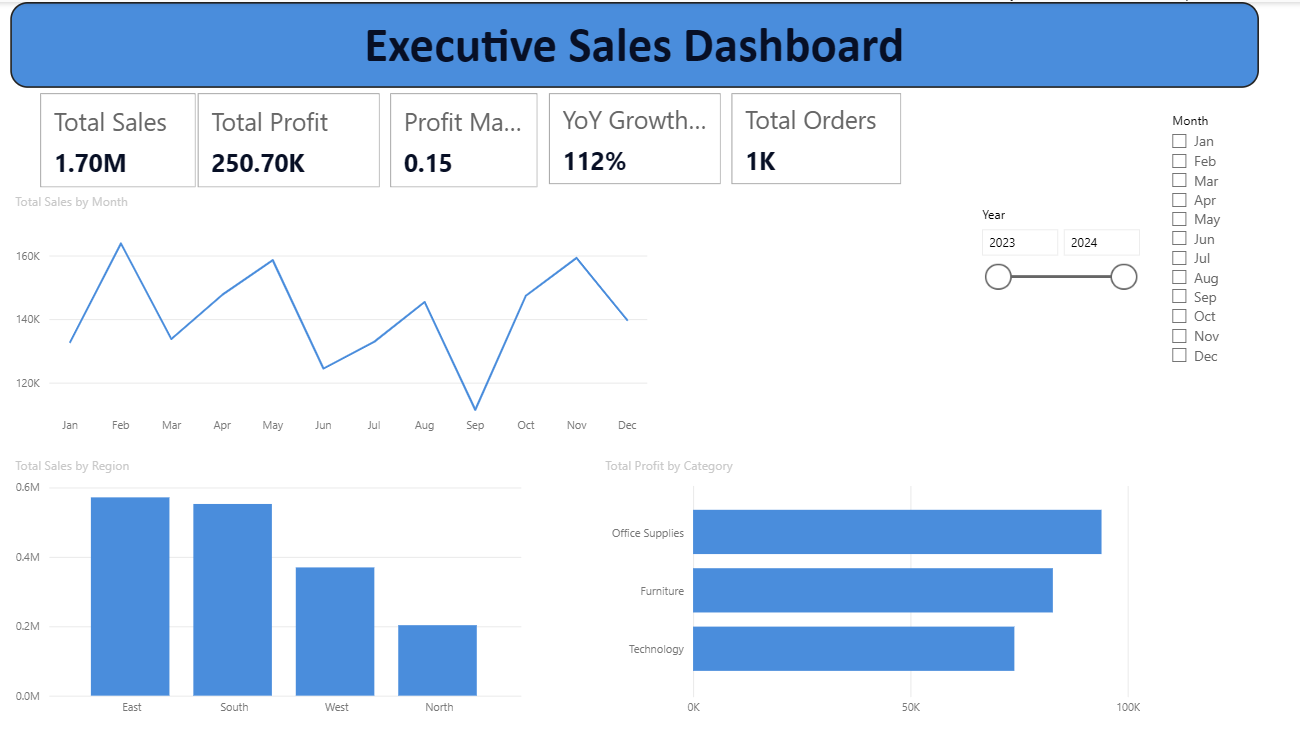

The dashboard page shown, as its layout file describes it:
{"tool":"powerbi","page":{"name":"Executive Overview","canvas":[1280,720],"ordinal":0},"visuals":[{"type":"cardVisual","fields":{"Data":["Orders.Total Sales"]},"box":[26.9,83.2,162.6,102.7],"z":0},{"type":"cardVisual","fields":{"Data":["Orders.Total Profit"]},"box":[189.5,84.4,188.3,102.7],"z":1000},{"type":"cardVisual","fields":{"Data":["Orders.Profit Margin"]},"box":[377.9,84.4,154.1,102.7],"z":2000},{"type":"cardVisual","fields":{"Data":["Orders.YoY Growth %"]},"box":[533.2,84.4,178.5,99],"z":3000},{"type":"cardVisual","fields":{"Data":["Orders.Total Orders"]},"box":[711.7,84.4,176.1,99],"z":4000},{"type":"lineChart","fields":{"Category":["Calendar.Month"],"Y":["Orders.Total Sales"]},"box":[11,187.1,628.5,244.6],"z":5000},{"type":"clusteredColumnChart","fields":{"Category":["Customers.Region"],"Y":["Orders.Total Sales"]},"box":[11,445.1,505,261.7],"z":6000},{"type":"clusteredBarChart","fields":{"Category":["Products.Category"],"Y":["Orders.Total Profit"]},"box":[588.2,445.1,533.2,261.7],"z":7000},{"type":"slicer","fields":{"Values":["Calendar.Year"]},"box":[948.9,194.4,172.4,99],"z":10000},{"type":"slicer","fields":{"Values":["Calendar.Month"]},"box":[1134.8,102.7,122.3,380.3],"z":11000},{"type":"textbox","box":[11,0,1221.6,84.4],"z":15000}]}

Visuals, with their boxes in screenshot pixels (x1, y1, x2, y2), scaled from the page's 1280x720 canvas onto the 1300x737 screenshot:
cardVisual - Orders.Total Sales: <box>27,85,192,190</box>
cardVisual - Orders.Total Profit: <box>192,86,384,192</box>
cardVisual - Orders.Profit Margin: <box>384,86,540,192</box>
cardVisual - Orders.YoY Growth %: <box>542,86,723,188</box>
cardVisual - Orders.Total Orders: <box>723,86,902,188</box>
lineChart - Calendar.Month x Orders.Total Sales: <box>11,192,649,442</box>
clusteredColumnChart - Customers.Region x Orders.Total Sales: <box>11,456,524,723</box>
clusteredBarChart - Products.Category x Orders.Total Profit: <box>597,456,1139,723</box>
slicer - Calendar.Year: <box>964,199,1139,300</box>
slicer - Calendar.Month: <box>1153,105,1277,494</box>
textbox: <box>11,0,1252,86</box>
